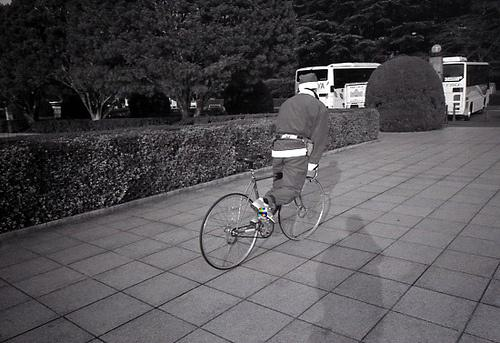bus: (295, 62, 382, 109), (441, 62, 492, 120)
car: (199, 153, 328, 271)
person: (249, 72, 334, 224)
